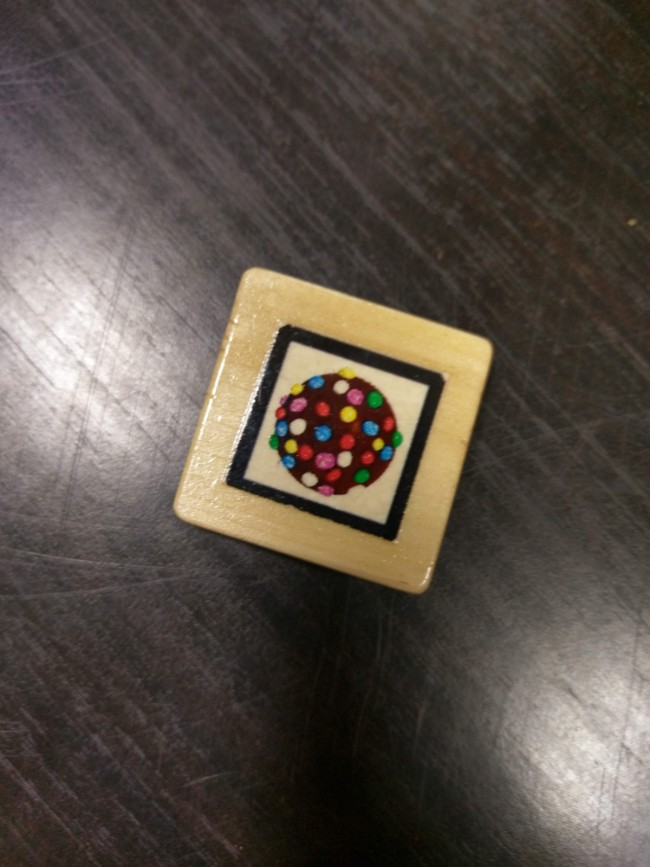cookie: (234, 321, 442, 539)
